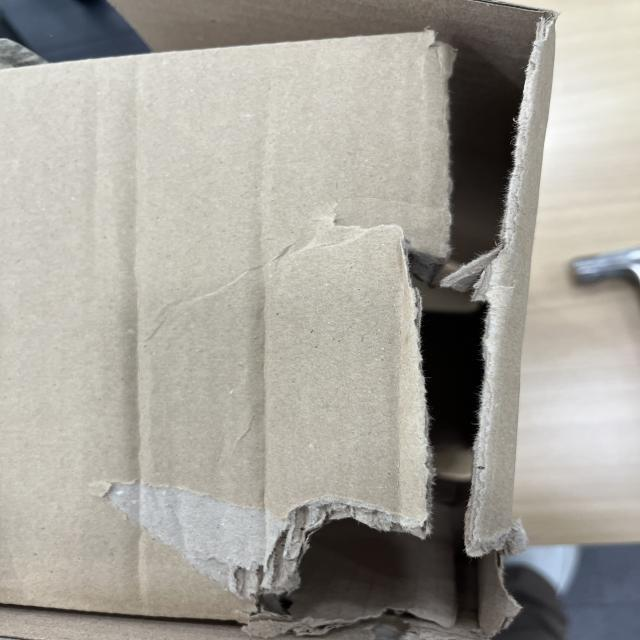hole: (271, 383, 505, 627)
